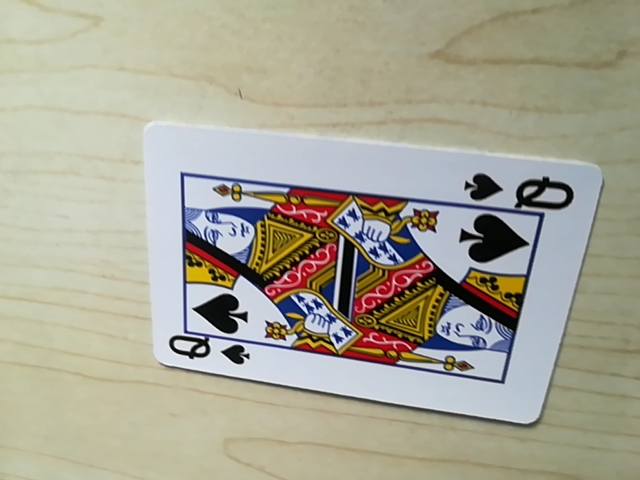ht q: (463, 166, 576, 213), (164, 333, 252, 369)
